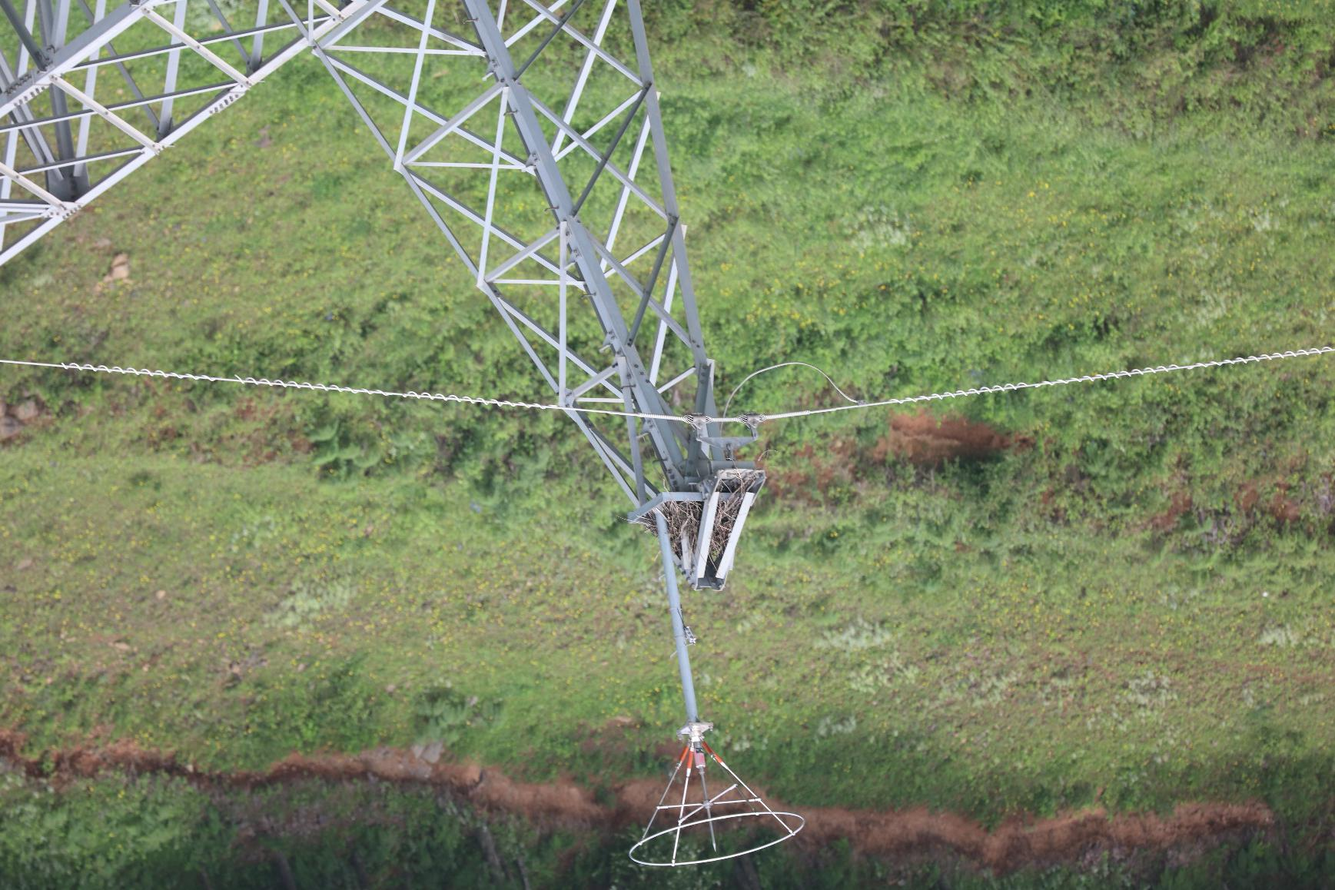nest: (638, 473, 754, 560)
